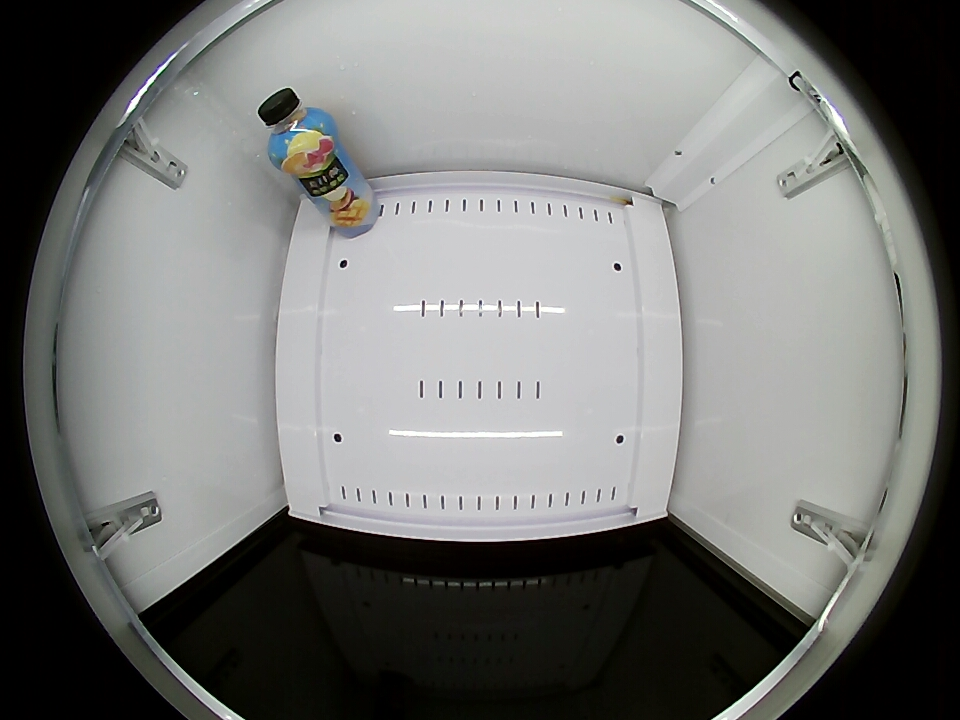guolicheng2: (259, 88, 335, 174)
